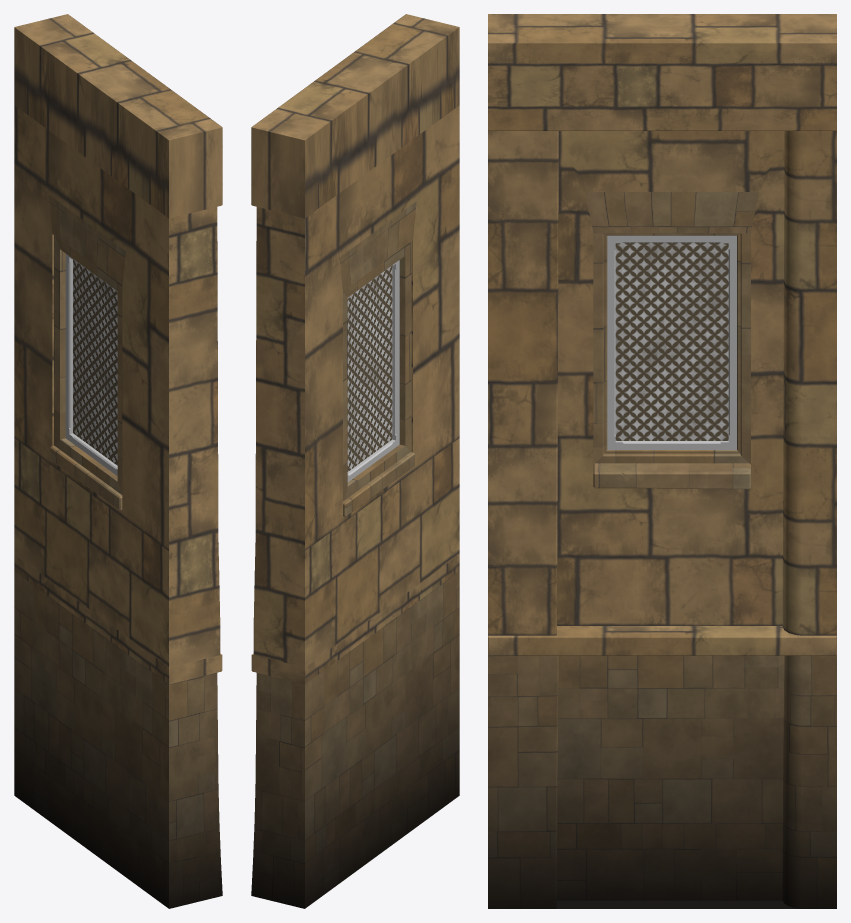
File: AN_WSW.fbx
3 views of the same model, side by side, from view 1: azimuth 30°, elevation 25°; view 2: azimuth 150°, elevation 25°; view 3: azimuth 270°, elevation 25° (orthographic). The views are drawn at different scales.
Parts seen in each view (by area): view 1: AN_WSW; view 2: AN_WSW; view 3: AN_WSW.
Part boxes in pixels (x1=…): AN_WSW: x1=14, y1=14, x2=222, y2=908; AN_WSW: x1=251, y1=14, x2=459, y2=908; AN_WSW: x1=488, y1=14, x2=836, y2=908.
Bounding box in the file's own units: 1.05 × 13.69 × 5.
